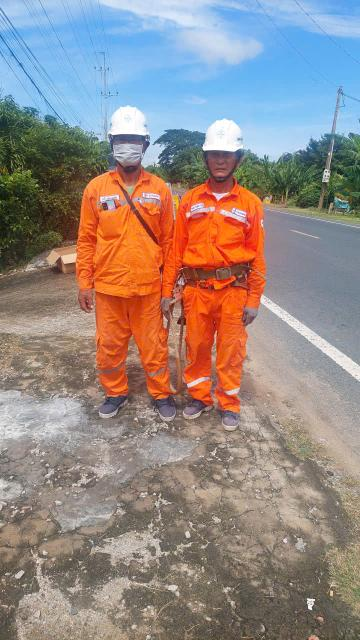gloves: (160, 290, 178, 319), (242, 304, 262, 328)
harness: (170, 258, 261, 294)
helmet: (102, 108, 152, 146), (202, 115, 246, 154)
shoes: (94, 391, 136, 420), (215, 396, 243, 434), (144, 392, 183, 419), (180, 392, 214, 421)
